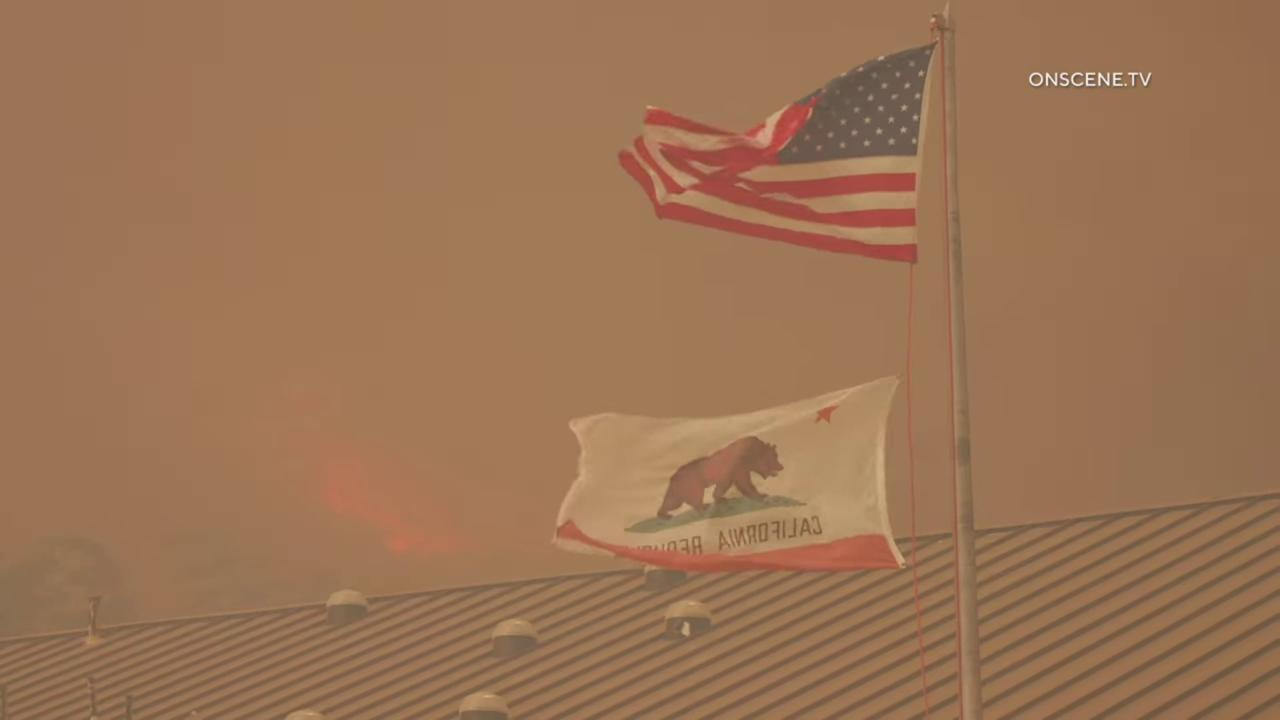smoke: (0, 0, 1280, 646)
